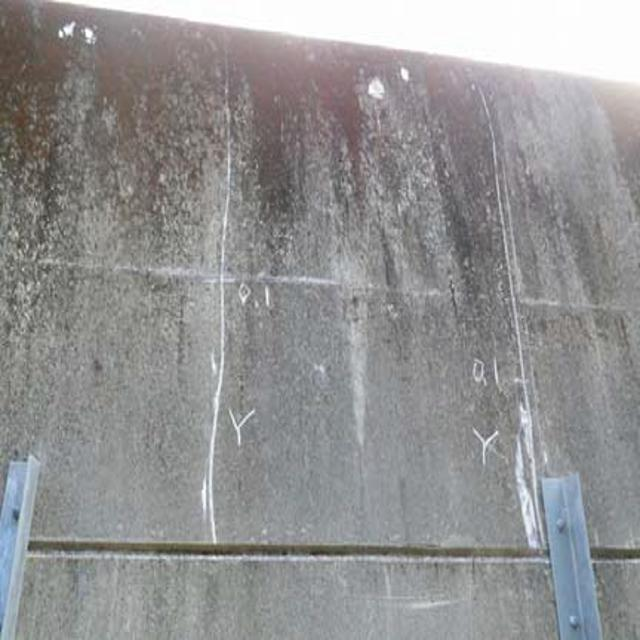freelime: (504, 390, 553, 554)
